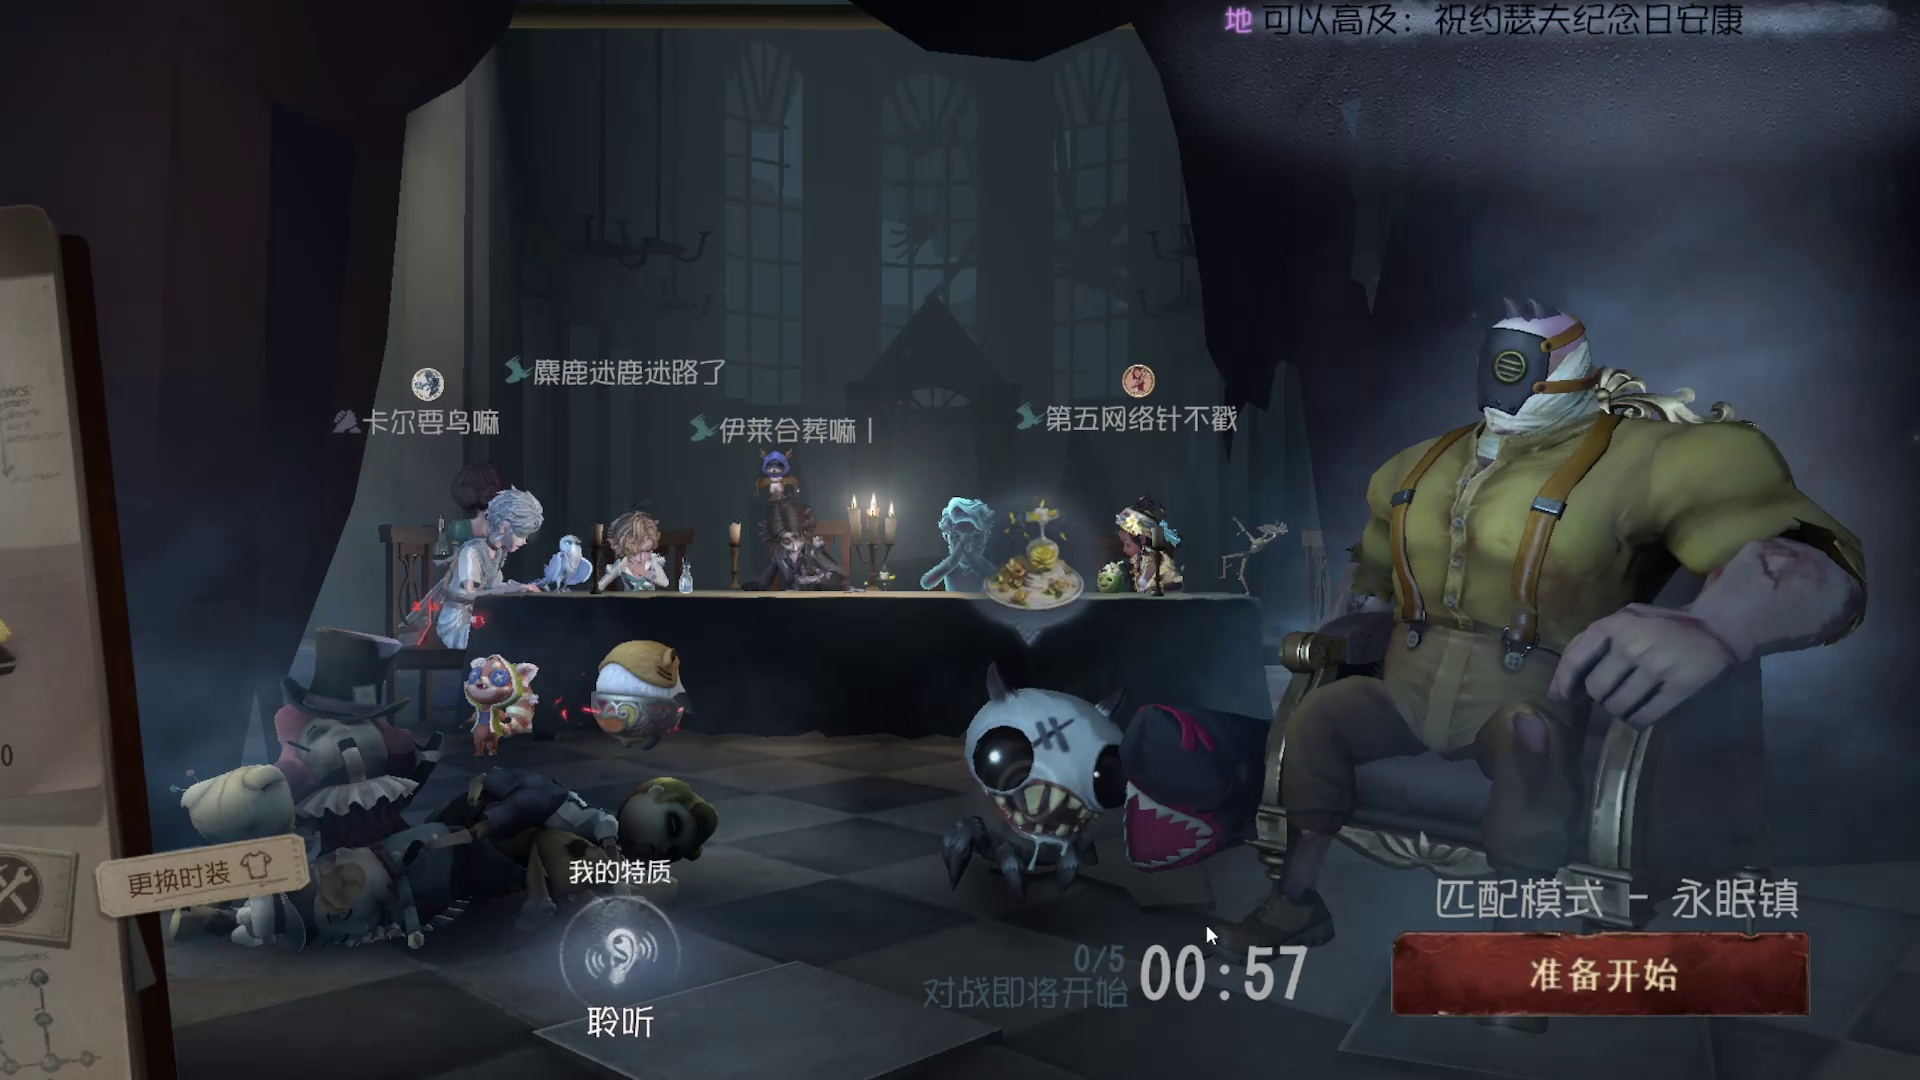准备开始: (1349, 895, 1837, 1044)
